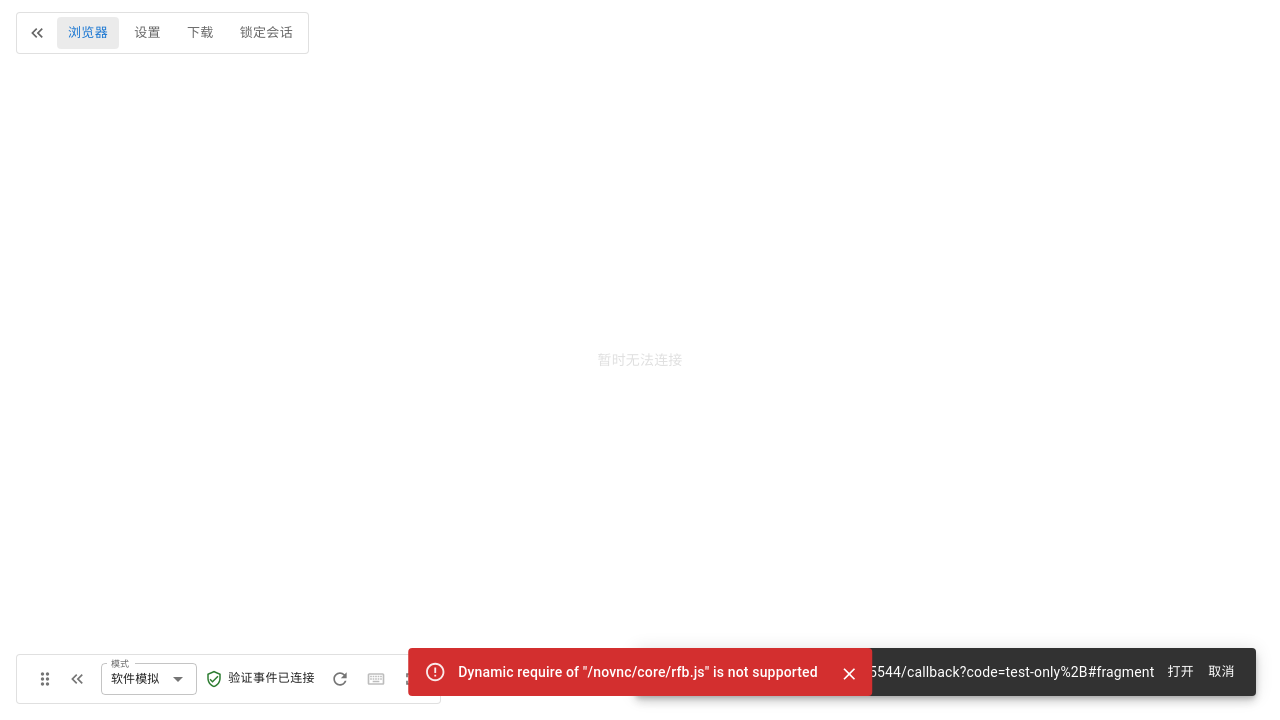
outer App local navigation lifecycle › shows a single live toast via the existing authenticated stream, with an exact click-only target
Expected: the text "在本机浏览器打开 http" is shown once, [651,664,1154,680]
Click the button "打开" at [1181, 672], box [1162,657,1199,687]
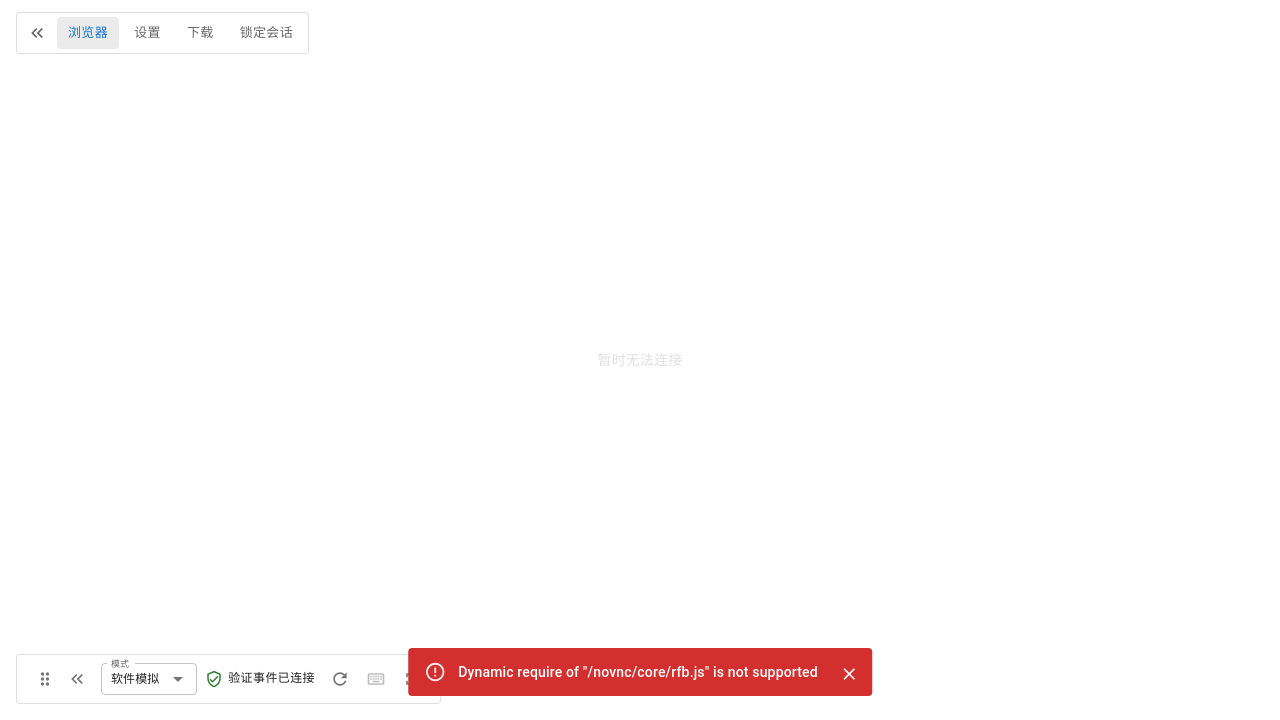
Expected: the text "在本机浏览器打开 http" is gone
